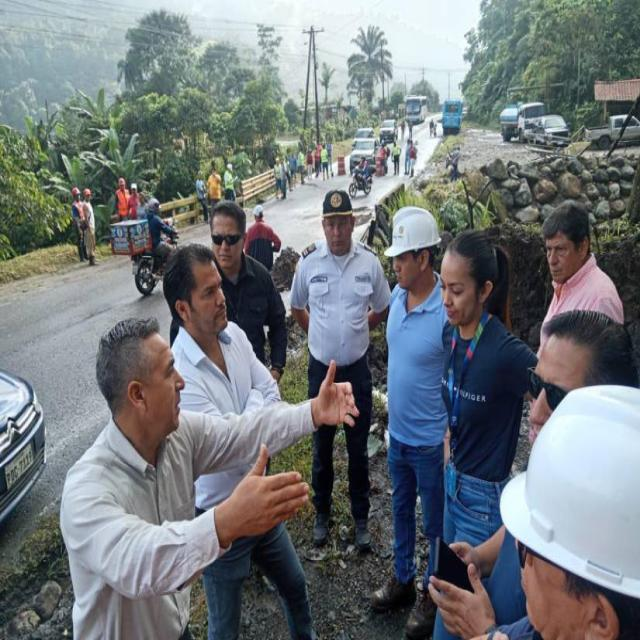BUS: (443, 98, 464, 136), (407, 94, 426, 124)
